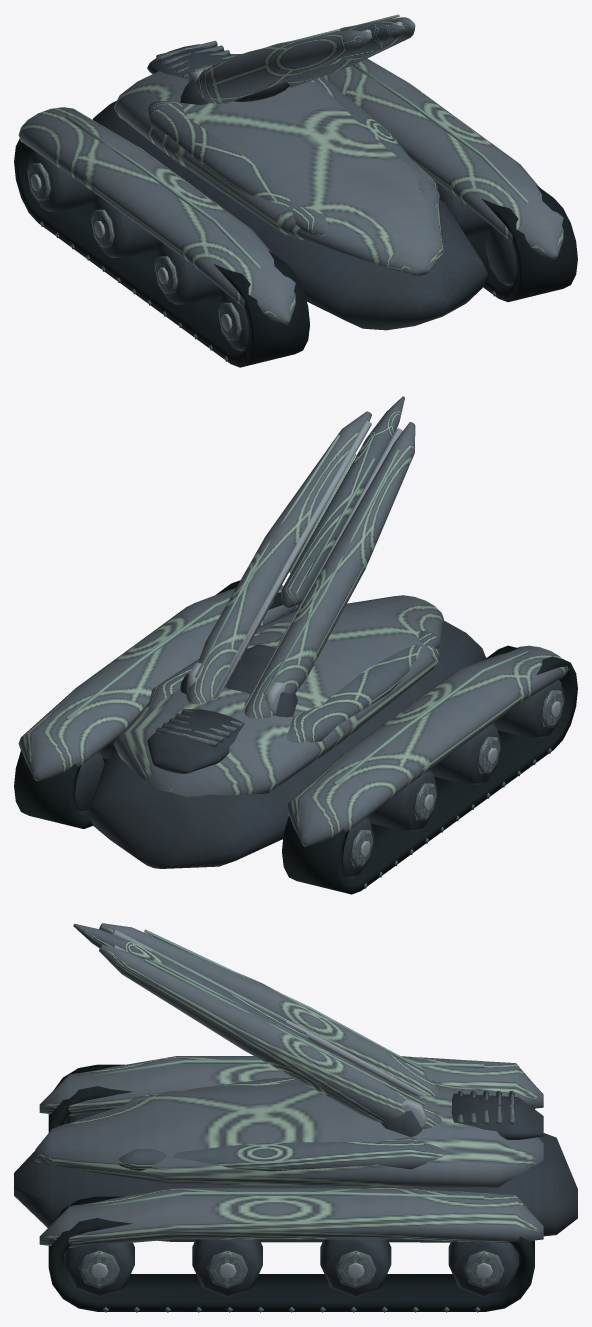
Rendered from GGA0101_source.obj.
3 renders of one model, top to bottom at view 1: azimuth 30°, elevation 25°; view 2: azimuth 150°, elevation 25°; view 3: azimuth 270°, elevation 25°, orthographic.
Visible parts, largest first — view 1: GGA0101, Turret, missile; view 2: GGA0101, Turret, missile; view 3: GGA0101, Turret, missile.
Boxes of the visible parts, x1,y1,x2,y2 form: GGA0101: (14, 40, 577, 367); Turret: (195, 14, 415, 104); missile: (313, 23, 404, 70); GGA0101: (14, 580, 577, 894); Turret: (186, 411, 415, 718); missile: (281, 396, 404, 607); GGA0101: (14, 1056, 577, 1312); Turret: (99, 923, 441, 1128); missile: (73, 923, 309, 1040).
Size of the model in its own units: 9.26 by 7.99 by 13.2.
1 material, 1 textured.
